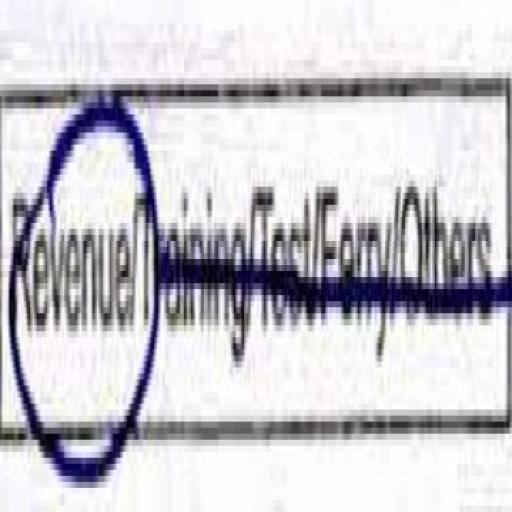check: (0, 30, 135, 512)
